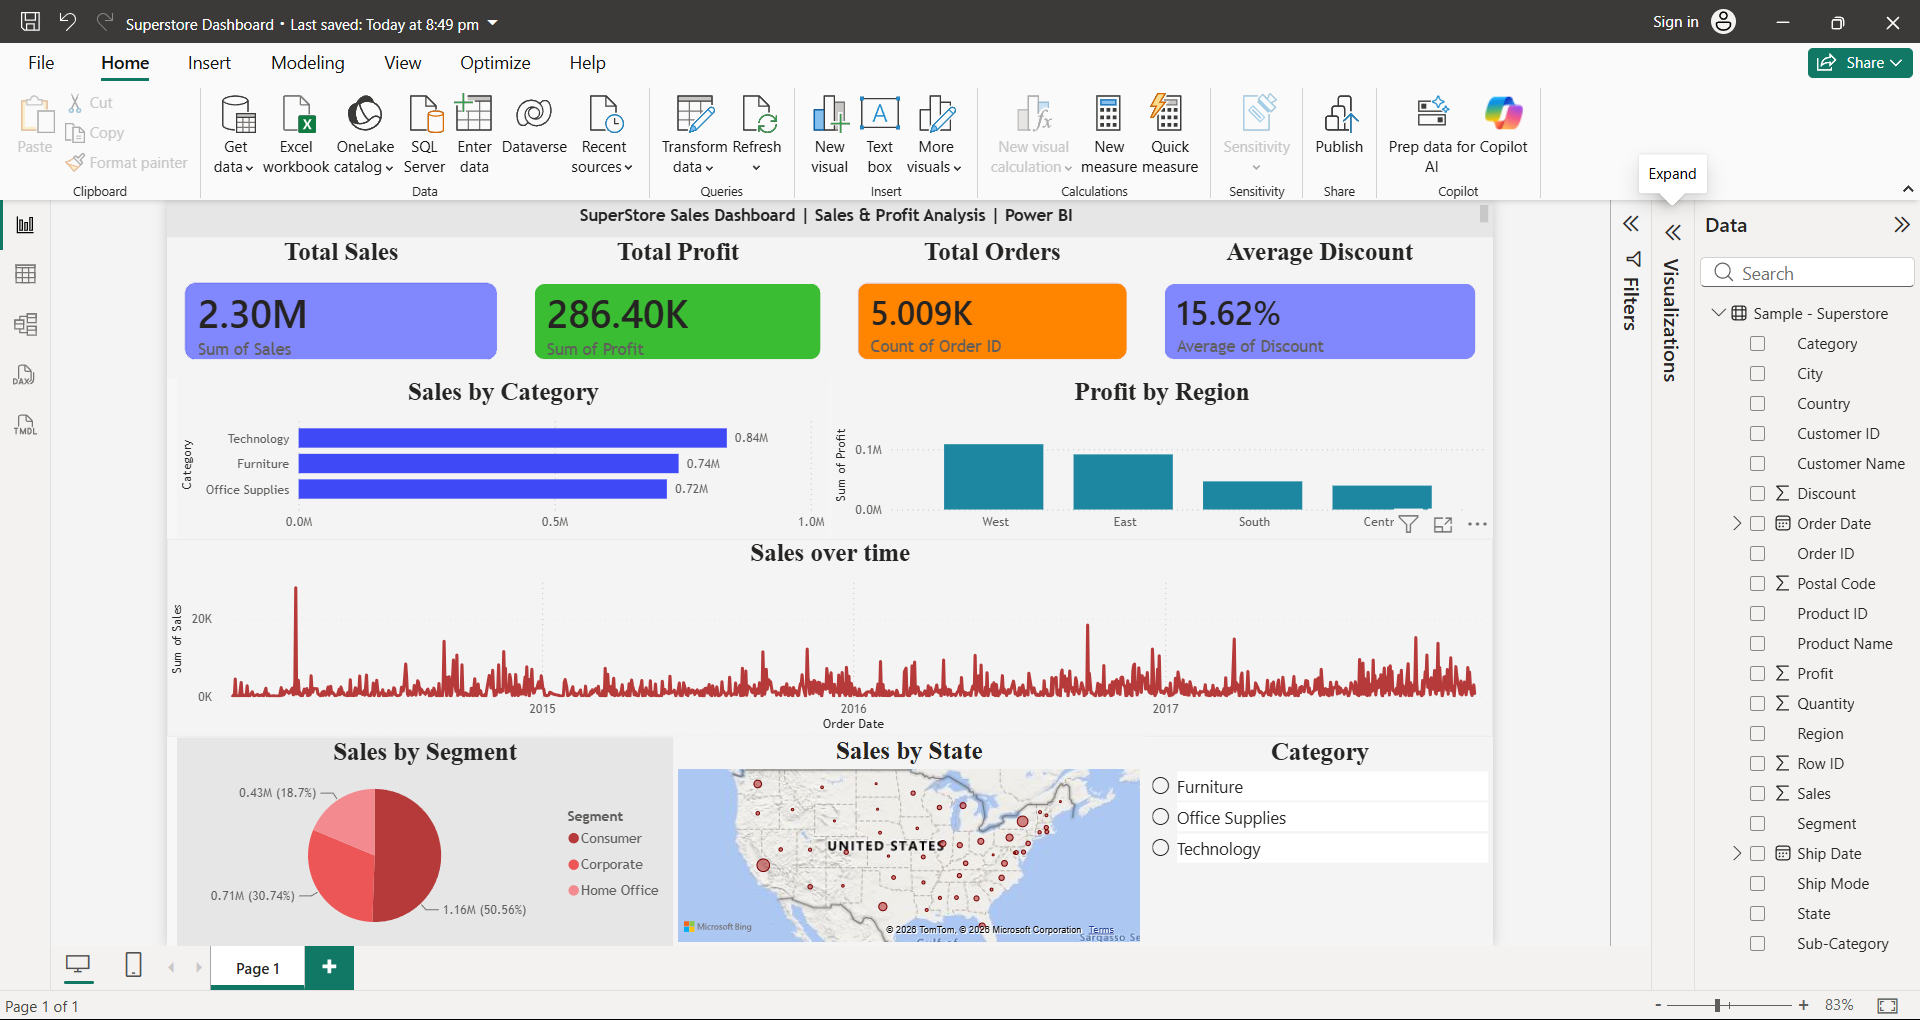

Layout of this report page (visuals, bound fields, positions):
{"tool":"powerbi","page":{"name":"Page 1","canvas":[1280,720],"ordinal":0},"visuals":[{"type":"cardVisual","title":"Total Sales","fields":{"Data":["Sum(Sample - Superstore.Sales)"]},"box":[0,35.7,336.2,135.8],"z":0},{"type":"cardVisual","title":"Total Profit","fields":{"Data":["Sum(Sample - Superstore.Profit)"]},"box":[336.2,35.7,312.9,135.8],"z":1000},{"type":"cardVisual","title":"Total Orders","fields":{"Data":["Count(Sample - Superstore.Order ID)"]},"box":[649.1,35.7,295,135.8],"z":2000},{"type":"cardVisual","title":"Average Discount","fields":{"Data":["Avg(Sample - Superstore.Discount)"]},"box":[944.1,35.7,336.2,135.8],"z":3000},{"type":"clusteredBarChart","title":"Sales by Category","fields":{"Category":["Sample - Superstore.Category"],"Y":["Sum(Sample - Superstore.Sales)"]},"box":[9.6,171.5,629.8,155.1],"z":4000},{"type":"clusteredColumnChart","title":"Profit by Region","fields":{"Category":["Sample - Superstore.Region"],"Y":["Sum(Sample - Superstore.Profit)"]},"box":[640.6,171.3,639.4,155.6],"z":5000},{"type":"lineChart","title":"Sales over time","fields":{"Category":["Sample - Superstore.Order Date"],"Y":["Sum(Sample - Superstore.Sales)"]},"box":[0,326.6,1280.3,190.7],"z":6000},{"type":"pieChart","title":"Sales by Segment","fields":{"Category":["Sample - Superstore.Segment"],"Y":["Sum(Sample - Superstore.Sales)"]},"box":[9.6,518.7,478.9,201.7],"z":7000},{"type":"map","title":"Sales by State","fields":{"Category":["Sample - Superstore.State"],"Size":["Sum(Sample - Superstore.Sales)"]},"box":[488.5,517.3,455.6,203.1],"z":8000},{"type":"listSlicer","fields":{"Values":["Sample - Superstore.Category"]},"box":[944.1,518.7,336.2,201.7],"z":8001},{"type":"textbox","box":[0,0,1280.3,35.7],"z":8003}]}

Visuals, with their boxes on the page's 1280x720 design canvas (x1, y1, x2, y2). These are canvas units, not pixel positions in the 1920x1020 screenshot, which may show the page scaled, cropped or inside an application window:
"Total Sales" cardVisual: pyautogui.locateOnScreen(0, 36, 336, 172)
"Total Profit" cardVisual: pyautogui.locateOnScreen(336, 36, 649, 172)
"Total Orders" cardVisual: pyautogui.locateOnScreen(649, 36, 944, 172)
"Average Discount" cardVisual: pyautogui.locateOnScreen(944, 36, 1280, 172)
"Sales by Category" clusteredBarChart: pyautogui.locateOnScreen(10, 172, 639, 327)
"Profit by Region" clusteredColumnChart: pyautogui.locateOnScreen(641, 171, 1280, 327)
"Sales over time" lineChart: pyautogui.locateOnScreen(0, 327, 1280, 517)
"Sales by Segment" pieChart: pyautogui.locateOnScreen(10, 519, 488, 720)
"Sales by State" map: pyautogui.locateOnScreen(488, 517, 944, 720)
listSlicer - Sample - Superstore.Category: pyautogui.locateOnScreen(944, 519, 1280, 720)
textbox: pyautogui.locateOnScreen(0, 0, 1280, 36)
